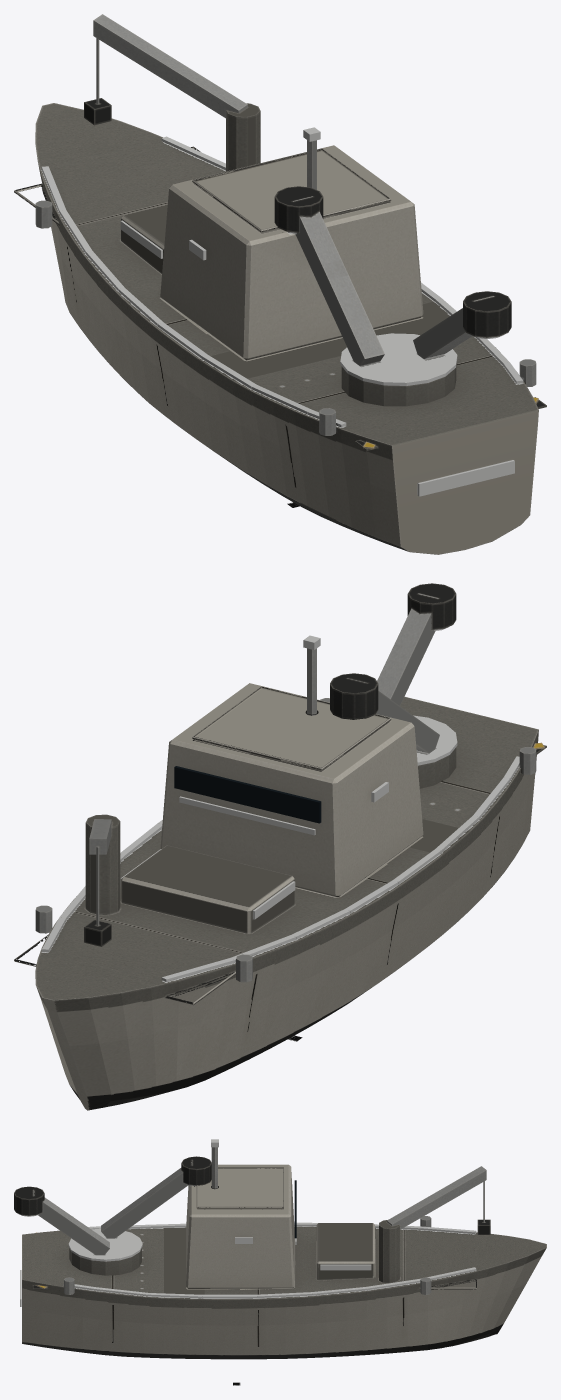
The model's file is ord_harbormaster.fbx.
3 renders of one model, top to bottom at view 1: azimuth 30°, elevation 25°; view 2: azimuth 150°, elevation 25°; view 3: azimuth 270°, elevation 25°, orthographic. The views are drawn at different scales.
Parts seen in each view (by area): view 1: base_bar, nano_bar, base_glow_running_bar, nano_glow_power_bar; view 2: base_bar, nano_bar, base_glow_running_bar, nano_glow_power_bar; view 3: base_bar, nano_bar, base_glow_running_bar, nano_glow_power_bar.
Part boxes in pixels (box(x1,y1,x2,y2)): base_bar: box(14, 14, 546, 554); nano_bar: box(274, 186, 511, 406); base_glow_running_bar: box(41, 127, 523, 496); nano_glow_power_bar: box(287, 231, 504, 385); base_bar: box(14, 648, 546, 1110); nano_bar: box(330, 583, 456, 788); base_glow_running_bar: box(41, 635, 519, 981); nano_glow_power_bar: box(413, 627, 457, 765); base_bar: box(22, 1147, 546, 1359); nano_bar: box(14, 1156, 211, 1275); base_glow_running_bar: box(20, 1139, 476, 1306); nano_glow_power_bar: box(19, 1184, 196, 1261).
Bounding box in the file's own units: 489 × 737 × 1465.
2 materials, 2 textured.
